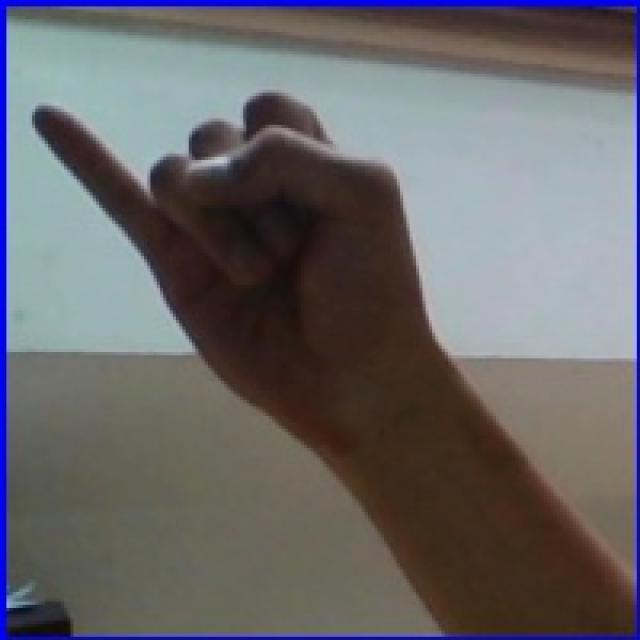J: (18, 21, 544, 422)
